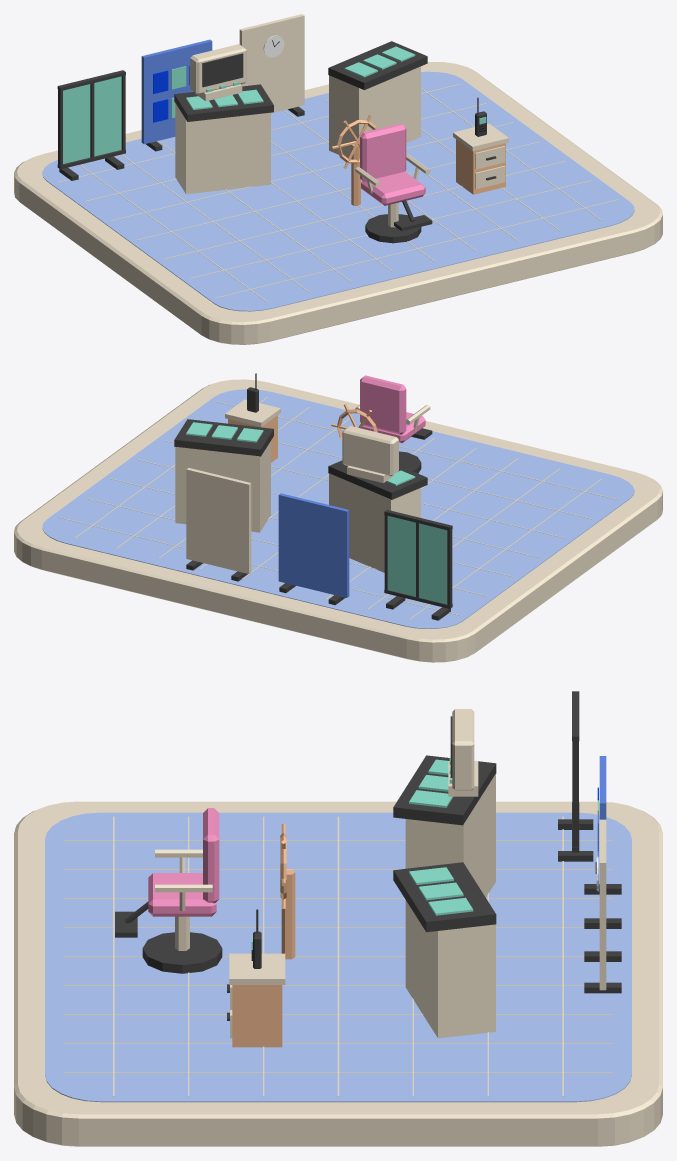
3 views of the same model, one above another, from view 1: azimuth 30°, elevation 25°; view 2: azimuth 150°, elevation 25°; view 3: azimuth 270°, elevation 25° (orthographic). The views are drawn at different scales.
Visible parts, largest first — view 1: COM-02 Floor Surface, COM-01 Rounded Base Direct, Console, Console.001, Panel.003, Panel.002, Back, Forward blue glazing.001, Forward blue glazing, Panel.001, Panel, Seat (+9 smaller); view 2: COM-02 Floor Surface, COM-01 Rounded Base Direct, Panel.002, Panel.003, Console, Console.001, Housing, Back, Forward blue glazing, Forward blue glazing.001, Panel.001, Panel (+5 smaller); view 3: COM-02 Floor Surface, COM-01 Rounded Base Direct, Console.001, Console, Panel.001, Body, Panel, Base, Seat, Housing, Top, Back (+4 smaller).
Boxes of the visible parts, x1,y1,x2,y2 form: COM-02 Floor Surface: (42,71,634,311); COM-01 Rounded Base Direct: (14,62,662,344); Console: (175,103,270,194); Console.001: (329,66,420,157); Panel.003: (239,14,304,113); Panel.002: (141,39,212,144); Back: (360,123,406,181); Forward blue glazing.001: (94,76,121,156); Forward blue glazing: (63,84,90,163); Panel.001: (328,41,427,89); Panel: (174,84,273,121); Seat: (361,171,425,205); COM-02 Floor Surface: (42,389,634,628); COM-01 Rounded Base Direct: (14,379,662,662); Panel.002: (278,493,349,597); Panel.003: (186,468,251,573); Console: (329,473,420,572); Console.001: (175,441,270,532); Housing: (342,426,398,476); Back: (360,375,406,434); Forward blue glazing: (419,523,447,604); Forward blue glazing.001: (387,516,415,596); Panel.001: (174,419,273,456); Panel: (328,460,427,499); COM-02 Floor Surface: (45,812,631,1102); COM-01 Rounded Base Direct: (14,801,662,1146); Console.001: (405,900,495,1038); Console: (405,774,495,897); Panel.001: (393,862,496,932); Body: (232,985,282,1047); Panel: (393,755,496,825); Base: (142,932,222,973); Seat: (148,873,216,916); Housing: (452,709,474,790); Top: (229,953,285,984); Back: (203,808,219,903).
Bounding box in the file's own units: 6 × 1.88 × 5.2.
Materials: 1 (1 with a texture image).
